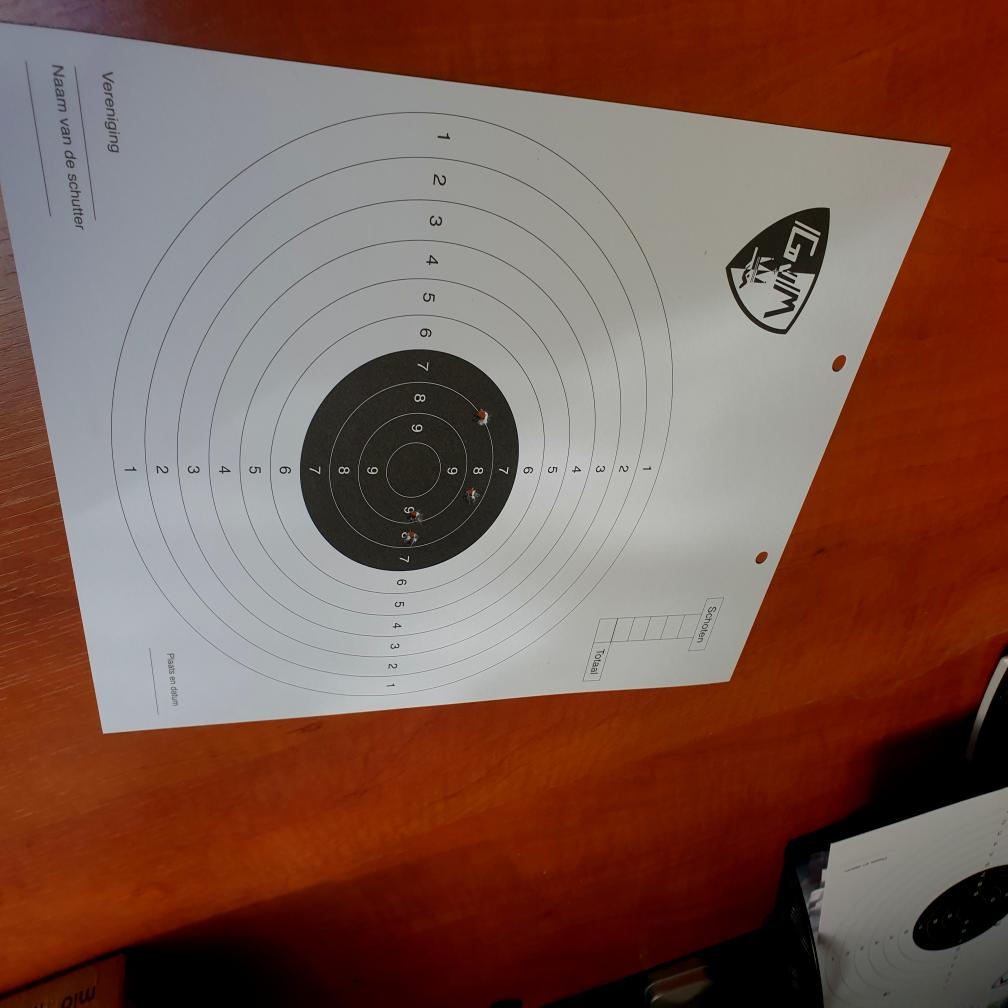8: (462, 485, 481, 506), (474, 407, 492, 428), (399, 530, 420, 547)
9: (406, 507, 423, 523)
Target: (106, 102, 678, 704)
black_contour: (300, 347, 520, 572)
